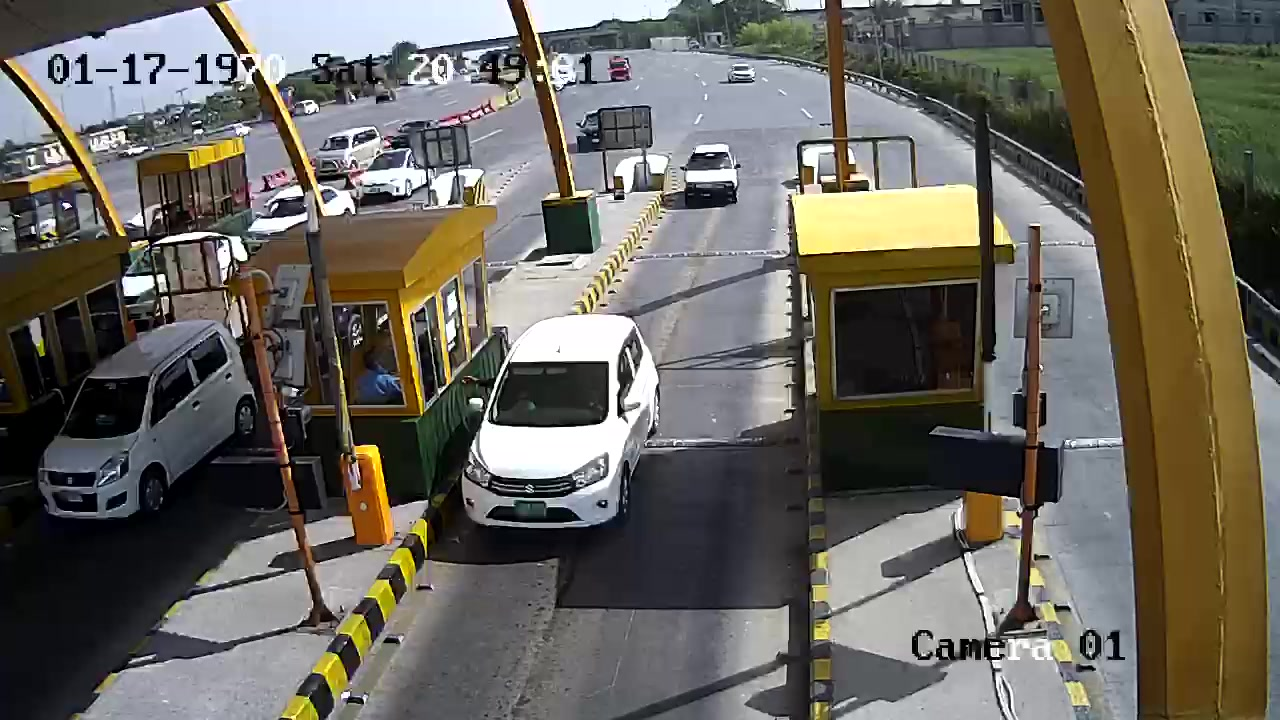F1: (458, 308, 671, 545)
